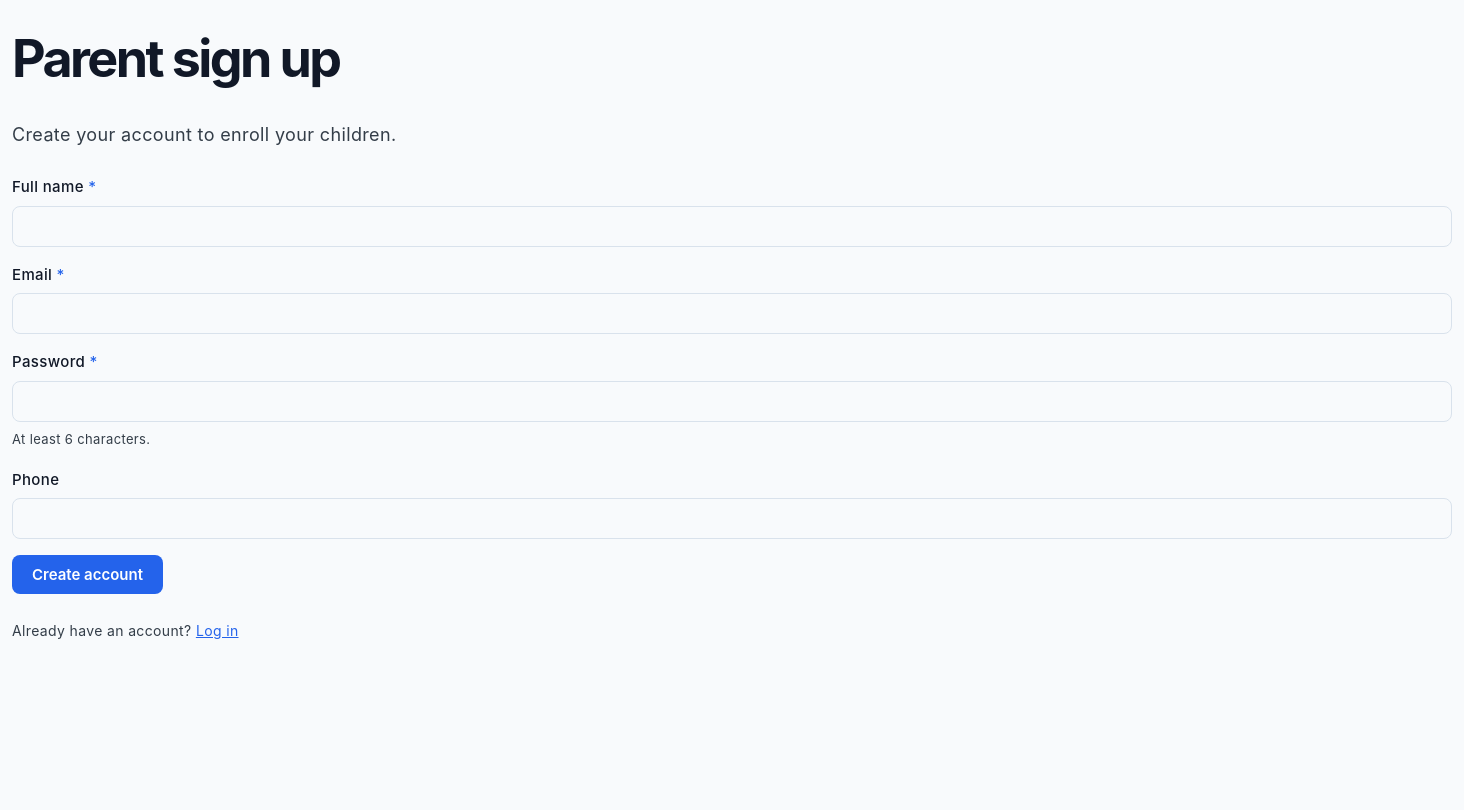
Test: ParentSignupForm › surfaces a non-duplicate insert error and does not navigate
Step 1. Type "Jane Parent" into the field labelled "Full name *" → (732, 226), box [12,206,1452,247]
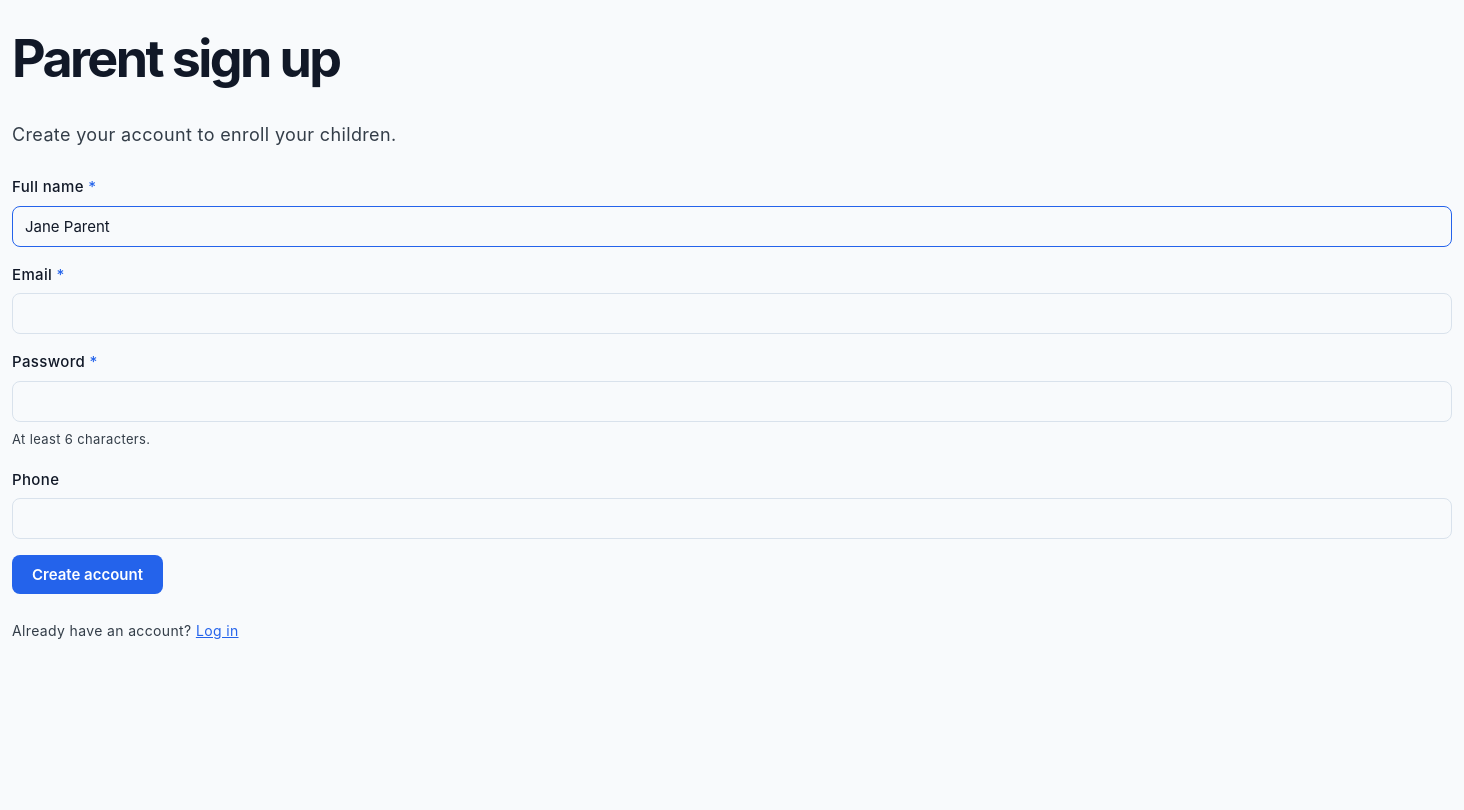
Step 2. Type "parent@example.com" into the field labelled "Email *" → (732, 314), box [12,294,1452,334]
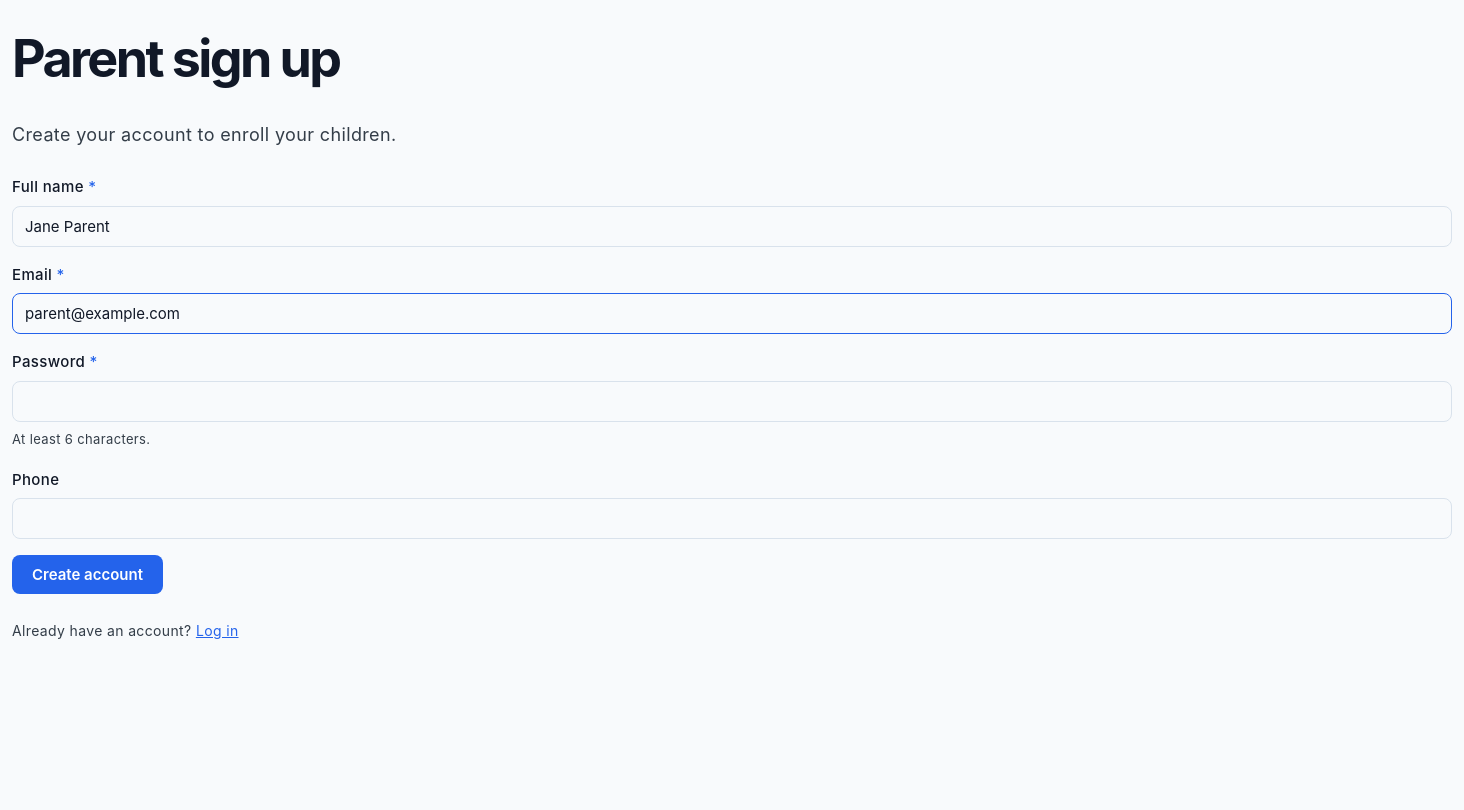
Step 3. Type "secret123" into the password field labelled "Password *" → (732, 402), box [12,381,1452,422]
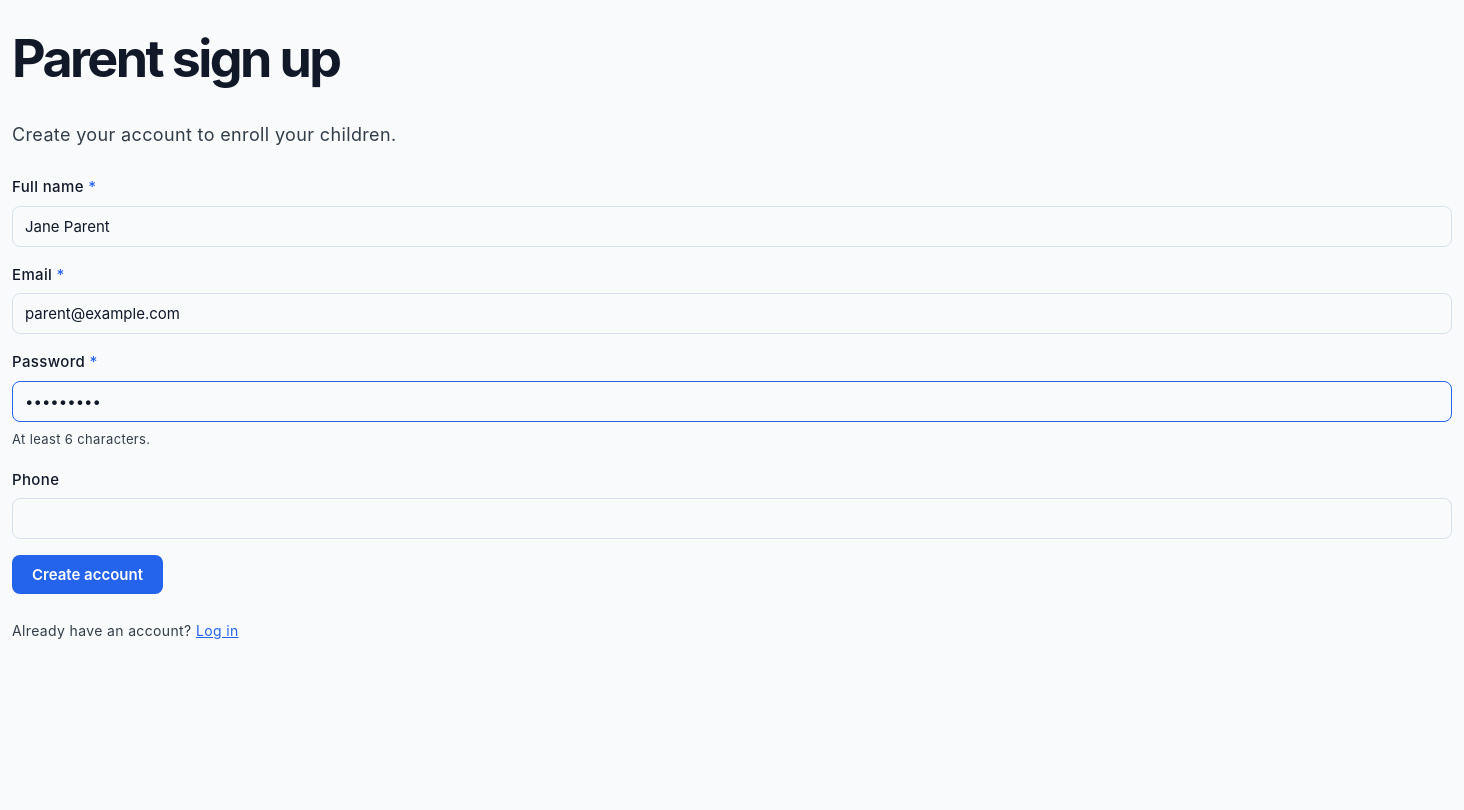
Step 4. Type "5551234567" into the field labelled "Phone" → (732, 519), box [12,498,1452,539]
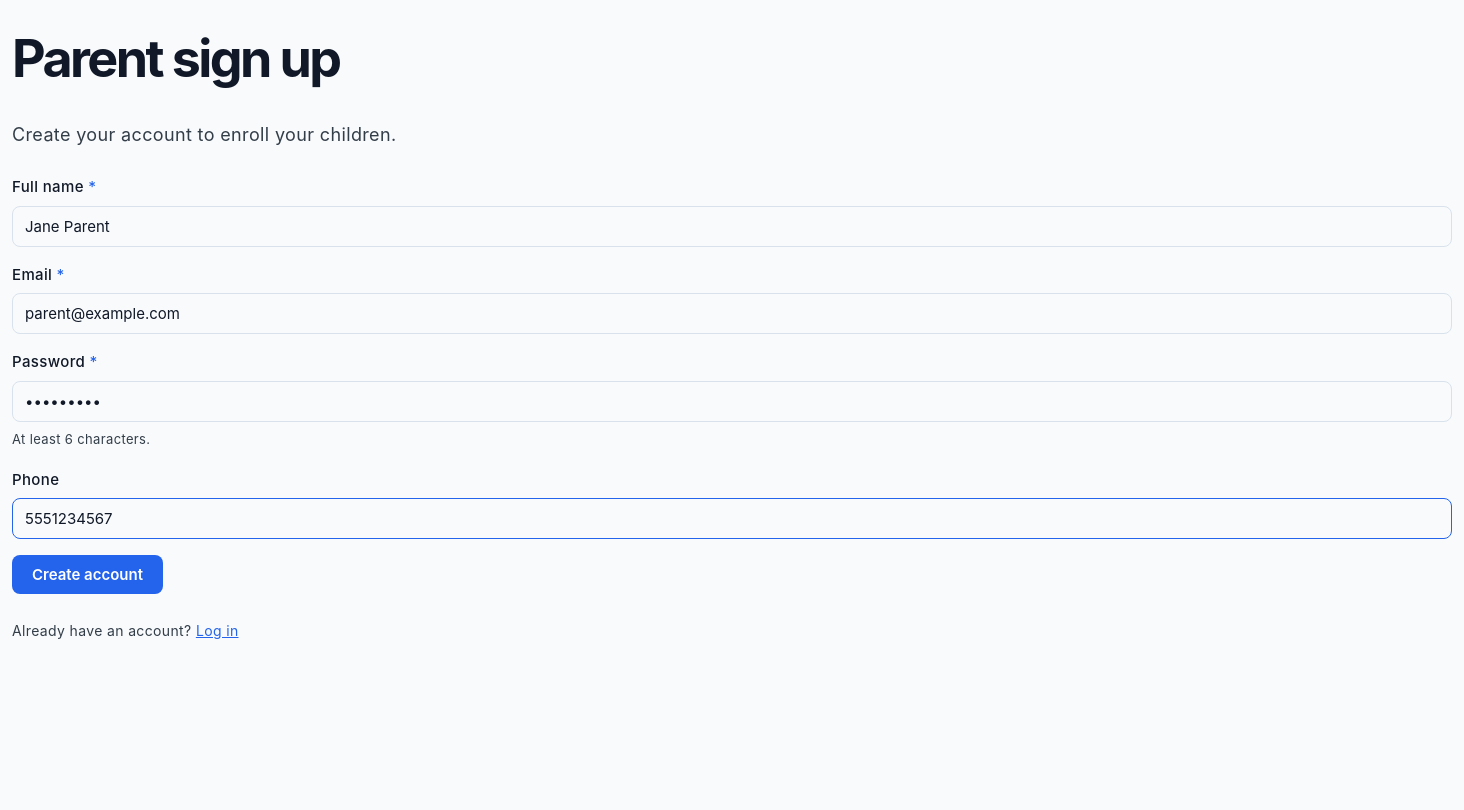
Step 5. Click the button "Create account" → (88, 575), box [12,555,163,594]
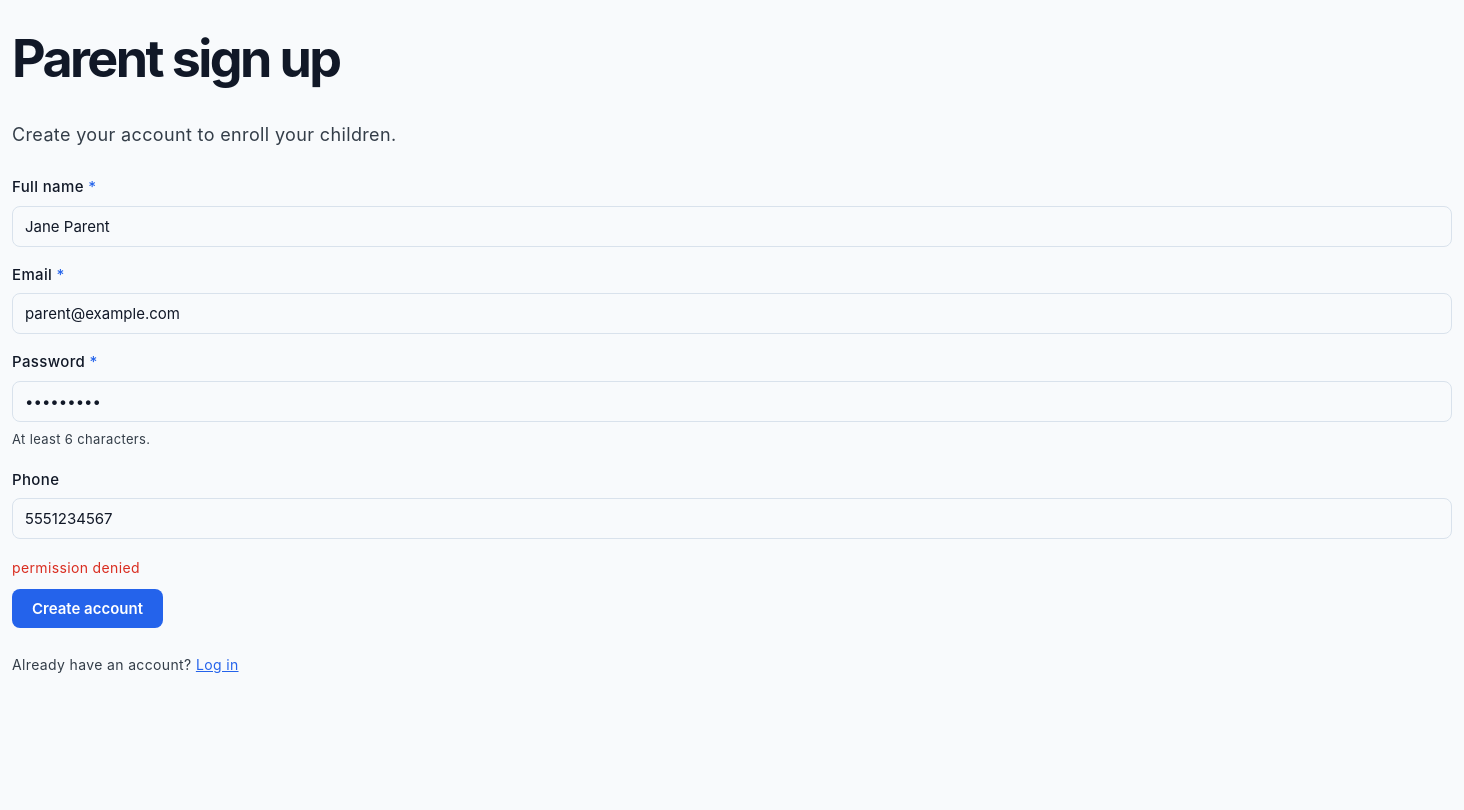
Now the text "permission denied" is shown, box [12,559,140,576]
